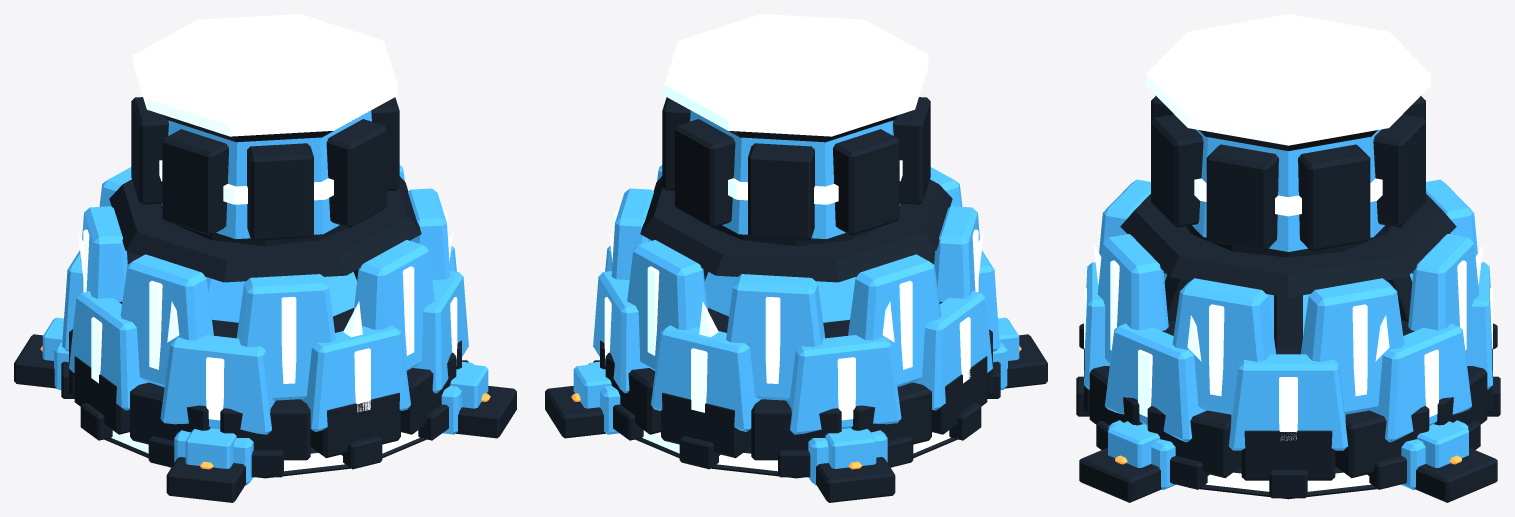
Rendered from tower_frost5_base.glb.
The picture shows the model from 3 angles, left to right: view 1: azimuth 30°, elevation 25°; view 2: azimuth 150°, elevation 25°; view 3: azimuth 270°, elevation 25°; orthographic projection. The views are drawn at different scales.
Visible parts, largest first — view 1: TowerFrost5_Base; view 2: TowerFrost5_Base; view 3: TowerFrost5_Base.
Part boxes in pixels (x1,y1,x2,y2): TowerFrost5_Base: (14, 14, 516, 502); TowerFrost5_Base: (545, 14, 1047, 502); TowerFrost5_Base: (1076, 14, 1500, 502).
Size of the model in its own units: 0.888 by 0.788 by 0.888.
